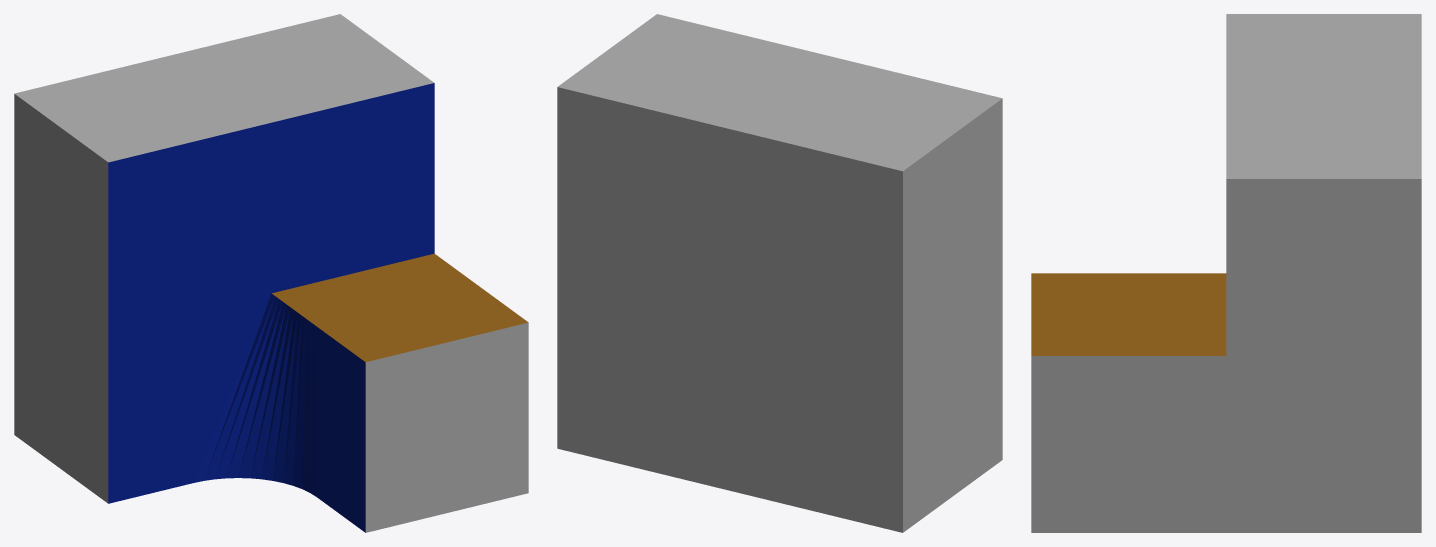
The model's file is case_55.fbx.
3 renders of one model, left to right at view 1: azimuth 30°, elevation 25°; view 2: azimuth 150°, elevation 25°; view 3: azimuth 270°, elevation 25°, orthographic. The views are drawn at different scales.
Parts seen in each view (by area): view 1: case_55; view 2: case_55; view 3: case_55.
Part boxes in pixels (left/top/right/bottom): case_55: left=14, top=14, right=528, bottom=532; case_55: left=557, top=14, right=1002, bottom=532; case_55: left=1031, top=14, right=1421, bottom=532.
Bounding box in the file's own units: 1 × 1 × 1.
